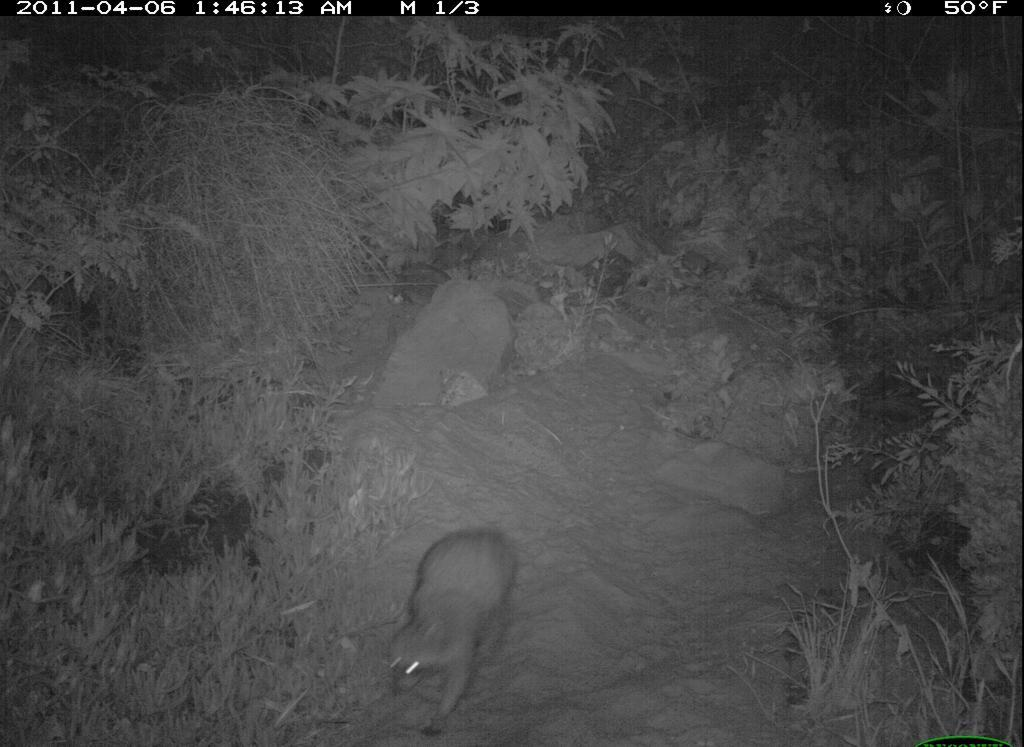raccoon: (377, 523, 545, 742)
